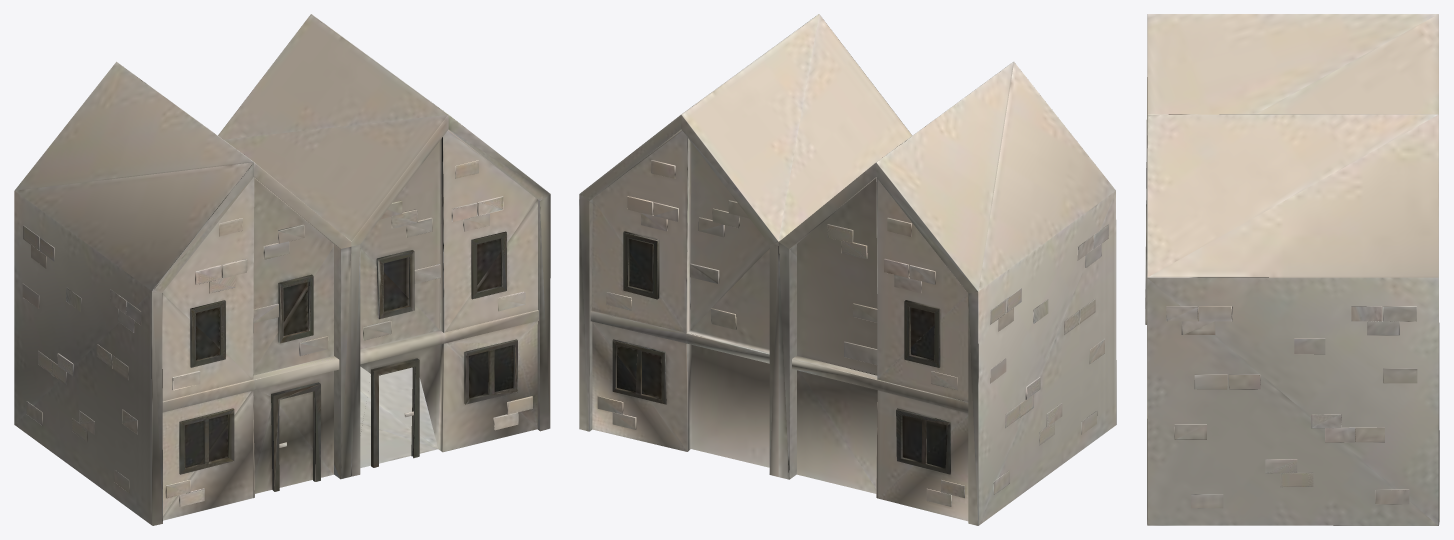
File: 04-duplex-house.glb
3 renders of one model, left to right at view 1: azimuth 30°, elevation 25°; view 2: azimuth 150°, elevation 25°; view 3: azimuth 270°, elevation 25°, orthographic. The views are drawn at different scales.
Parts seen in each view (by area): view 1: geometry_0; view 2: geometry_0; view 3: geometry_0.
Boxes of the visible parts, <box> form: geometry_0: <box>14,14,550,525</box>; geometry_0: <box>579,14,1116,525</box>; geometry_0: <box>1145,14,1439,525</box>.
Size of the model in its own units: 0.9609 by 0.7715 by 0.5737.
1 material, 1 textured.
